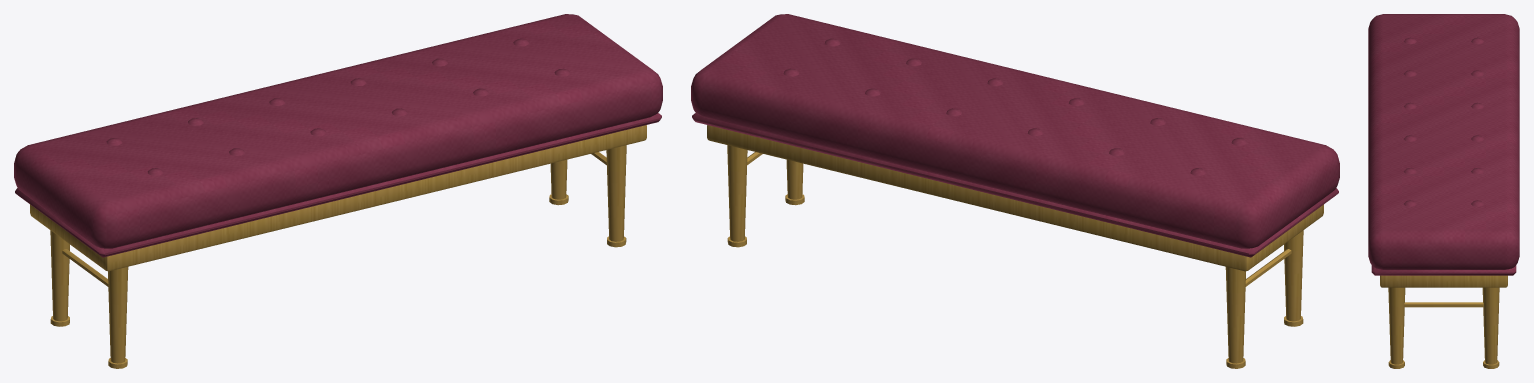
Rendered from banco-estofado-16.glb.
3 views of the same model, side by side, from view 1: azimuth 30°, elevation 25°; view 2: azimuth 150°, elevation 25°; view 3: azimuth 270°, elevation 25° (orthographic). The views are drawn at different scales.
Parts seen in each view (by area): view 1: almofada, quadro, vivo, perna.002, perna, perna.001, perna.003; view 2: almofada, quadro, vivo, perna.003, perna.001, perna, perna.002; view 3: almofada, quadro, perna.002, perna.003, vivo, longarina.001.
Boxes of the visible parts, bbox=[...] form: almofada: bbox=[14, 14, 662, 248]; quadro: bbox=[30, 125, 646, 271]; vivo: bbox=[15, 113, 661, 257]; perna.002: bbox=[606, 145, 626, 241]; perna: bbox=[108, 267, 128, 363]; perna.001: bbox=[50, 230, 69, 321]; perna.003: bbox=[550, 159, 567, 199]; almofada: bbox=[691, 14, 1339, 248]; quadro: bbox=[707, 125, 1323, 271]; vivo: bbox=[692, 113, 1338, 257]; perna.003: bbox=[727, 145, 747, 241]; perna.001: bbox=[1225, 267, 1245, 363]; perna: bbox=[1284, 230, 1303, 321]; perna.002: bbox=[786, 159, 803, 199]; almofada: bbox=[1368, 14, 1519, 269]; quadro: bbox=[1380, 275, 1507, 287]; perna.002: bbox=[1388, 287, 1405, 364]; perna.003: bbox=[1482, 287, 1499, 364]; vivo: bbox=[1371, 265, 1516, 275]; longarina.001: bbox=[1404, 302, 1483, 307].
Size of the model in its own units: 1.6 by 0.4779 by 0.45.
2 materials, 2 textured.
